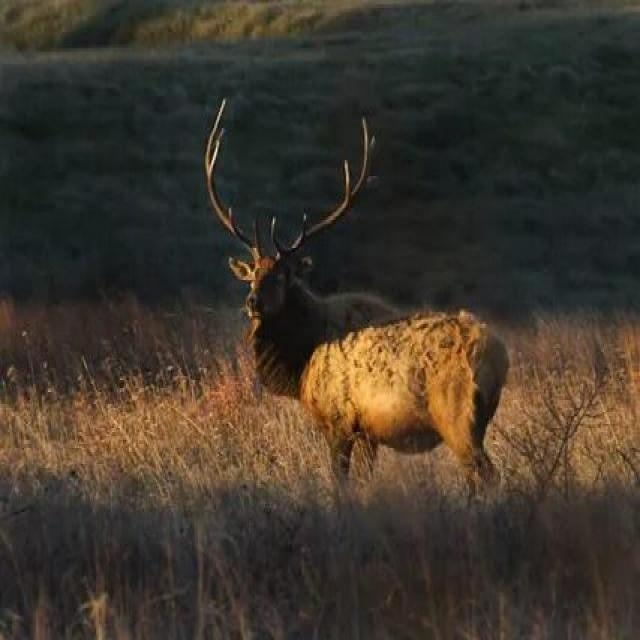deer: (215, 175, 518, 522)
